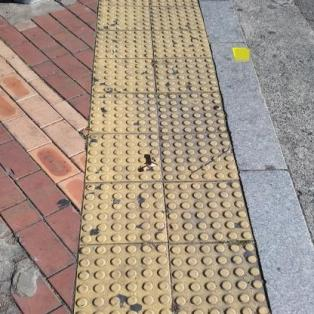Podoctatil: (66, 0, 277, 313)
